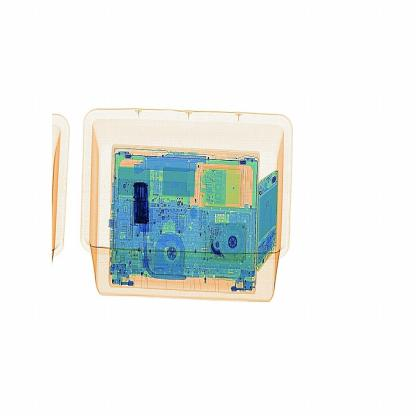scissors: (125, 169, 160, 236)
